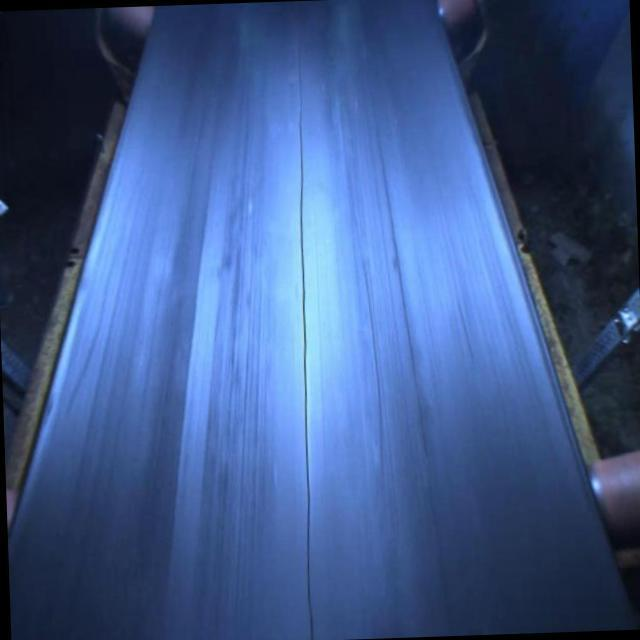Tear: (287, 33, 325, 640)
